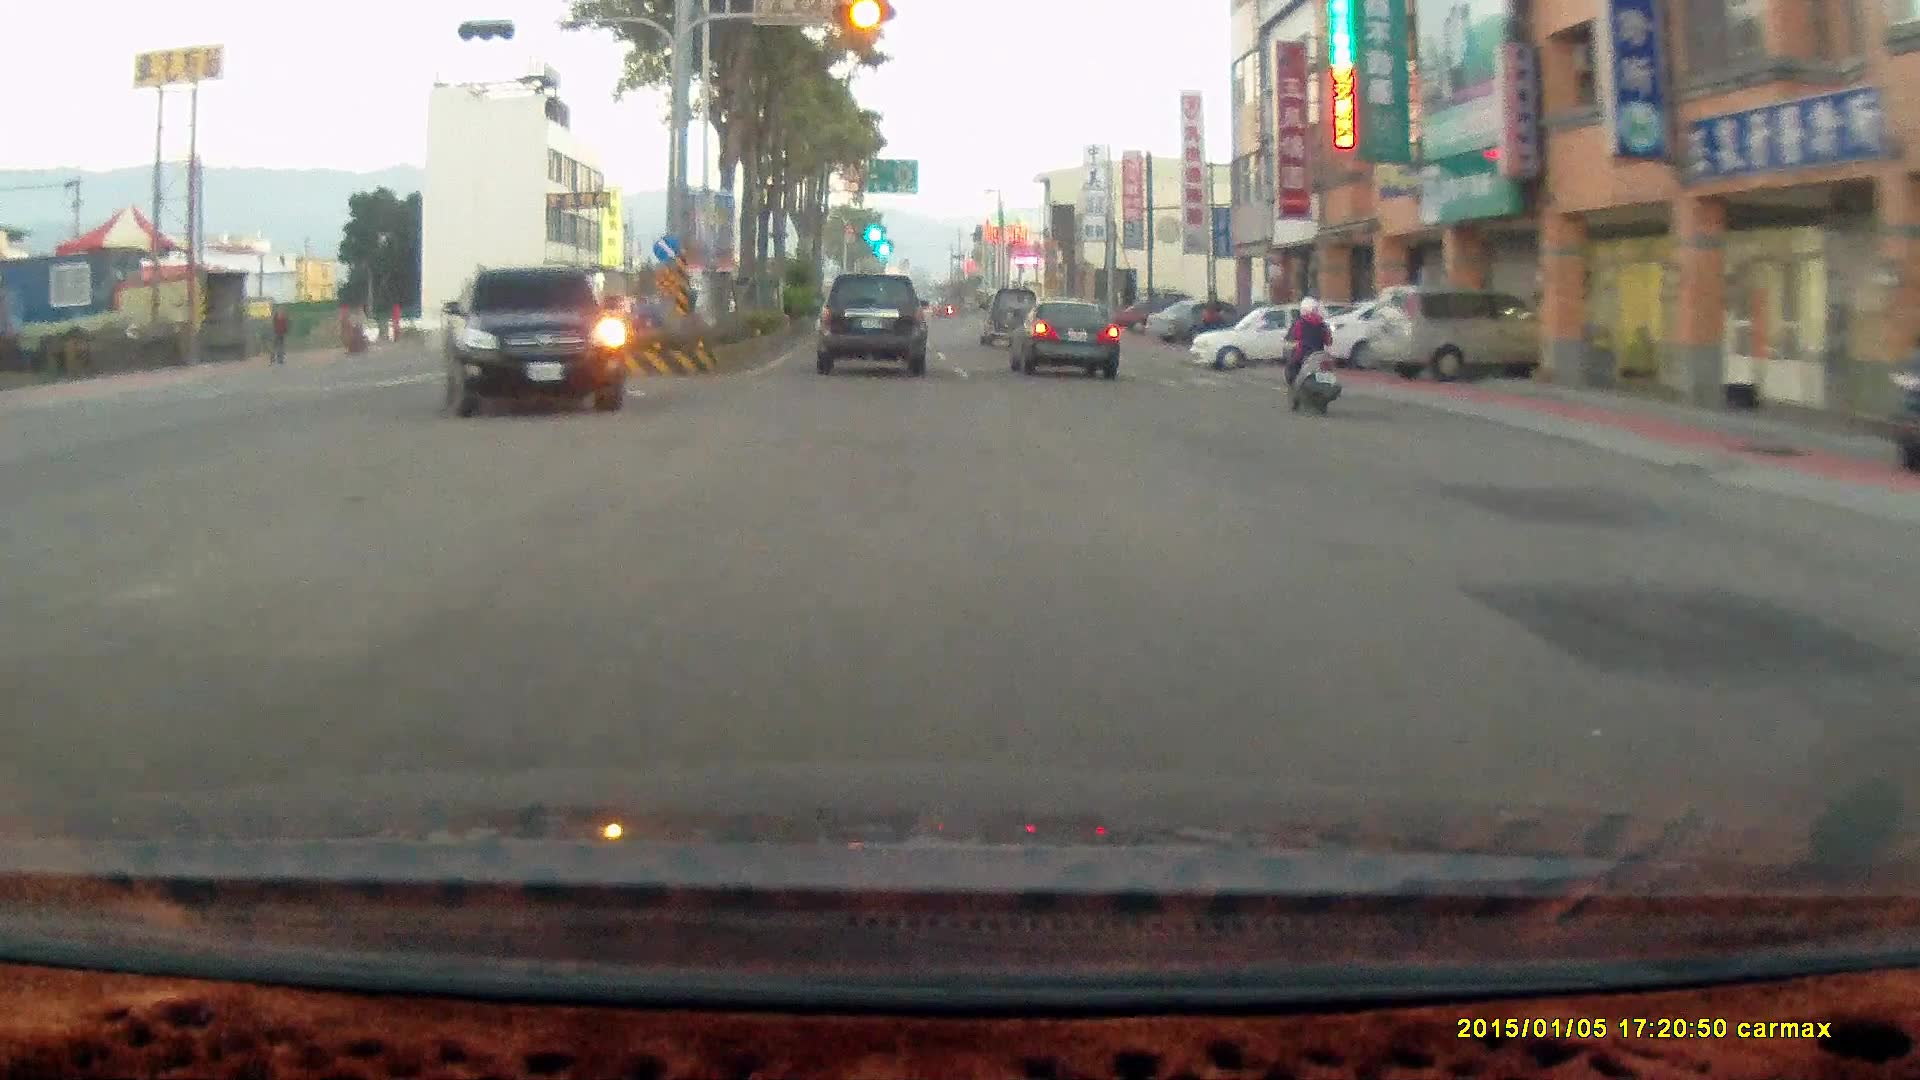pedestrian: (265, 302, 291, 366), (1201, 285, 1228, 345)
rider: (1269, 288, 1349, 419), (1278, 295, 1341, 415)
vehicle: (440, 266, 625, 417), (445, 265, 627, 417), (1364, 282, 1576, 379), (1379, 286, 1557, 386), (1307, 295, 1487, 374), (1191, 303, 1359, 376), (823, 272, 934, 378), (816, 271, 927, 376), (1191, 301, 1358, 368), (1008, 298, 1129, 378), (1005, 300, 1118, 382), (1883, 338, 1920, 471), (1147, 296, 1247, 340), (976, 282, 1044, 340), (1116, 294, 1204, 334)
